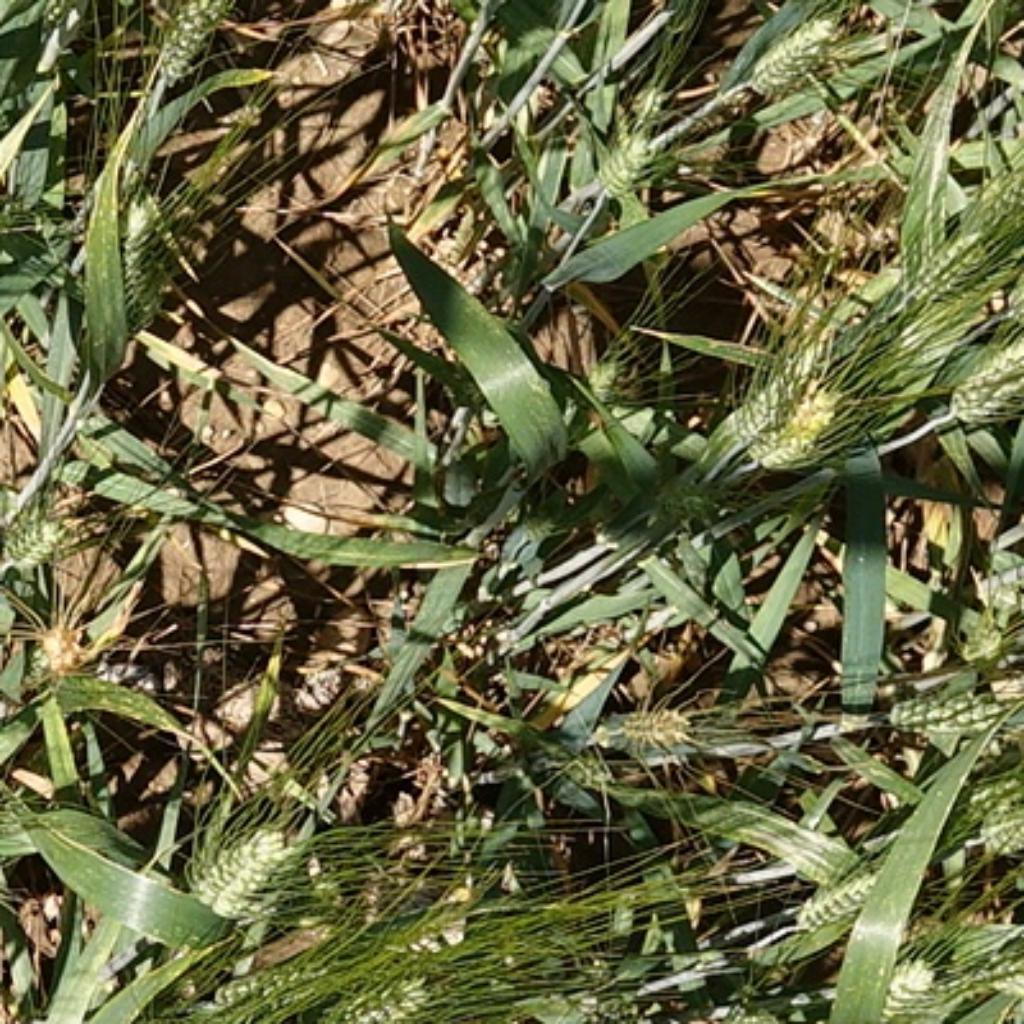0-0: (90, 191, 170, 354), (726, 378, 853, 472), (207, 820, 304, 924), (929, 893, 1024, 995), (742, 5, 849, 92), (909, 225, 1000, 312), (886, 682, 1013, 744), (949, 332, 1024, 422), (870, 942, 952, 1024), (786, 860, 880, 931), (589, 114, 665, 198), (0, 483, 71, 568), (949, 588, 1018, 675), (330, 969, 436, 1024), (152, 1, 223, 80), (964, 770, 1024, 859), (214, 952, 307, 1007), (23, 609, 89, 680), (598, 700, 696, 744), (578, 343, 642, 404)
